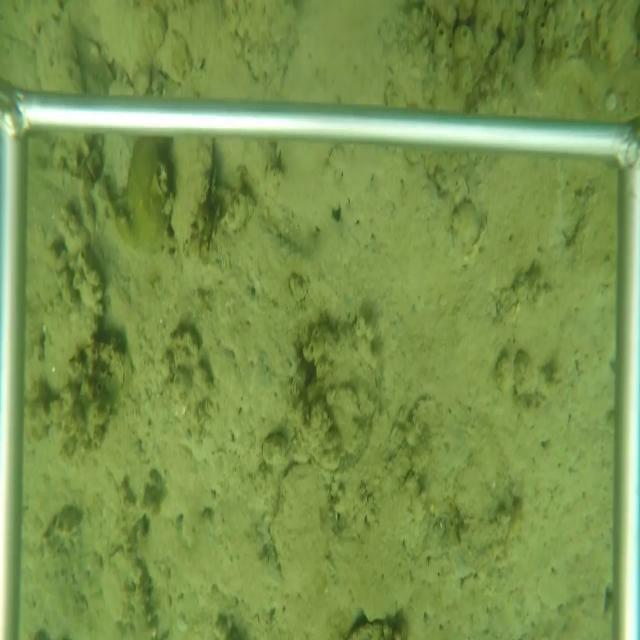Oyster-Closed: (260, 455, 327, 584)
Oyster-Indeterminate: (34, 12, 87, 89)
Oyster-Open: (168, 137, 218, 266)
